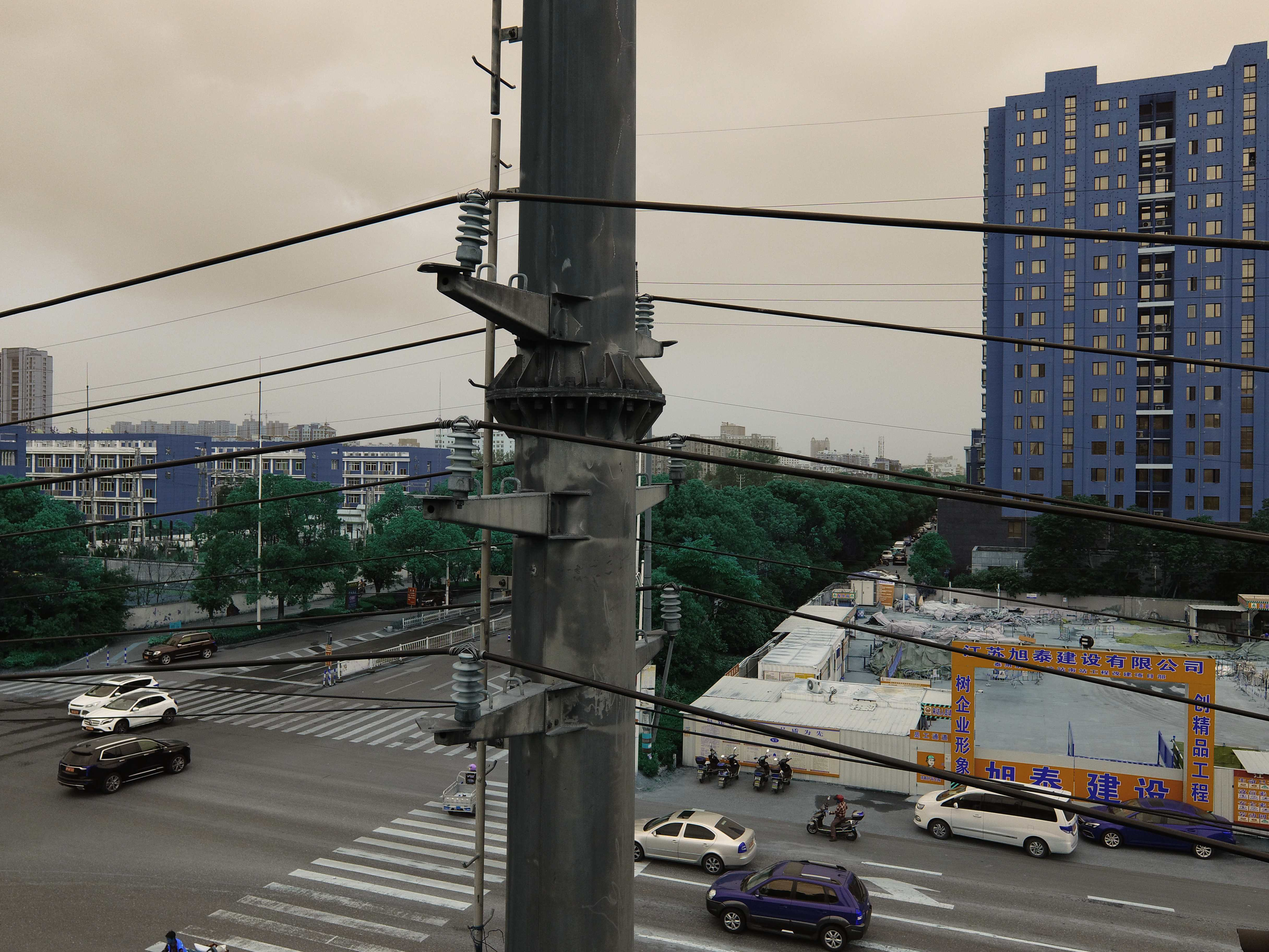severe_soiling_no_discharge_whole: (446, 649, 487, 724)
